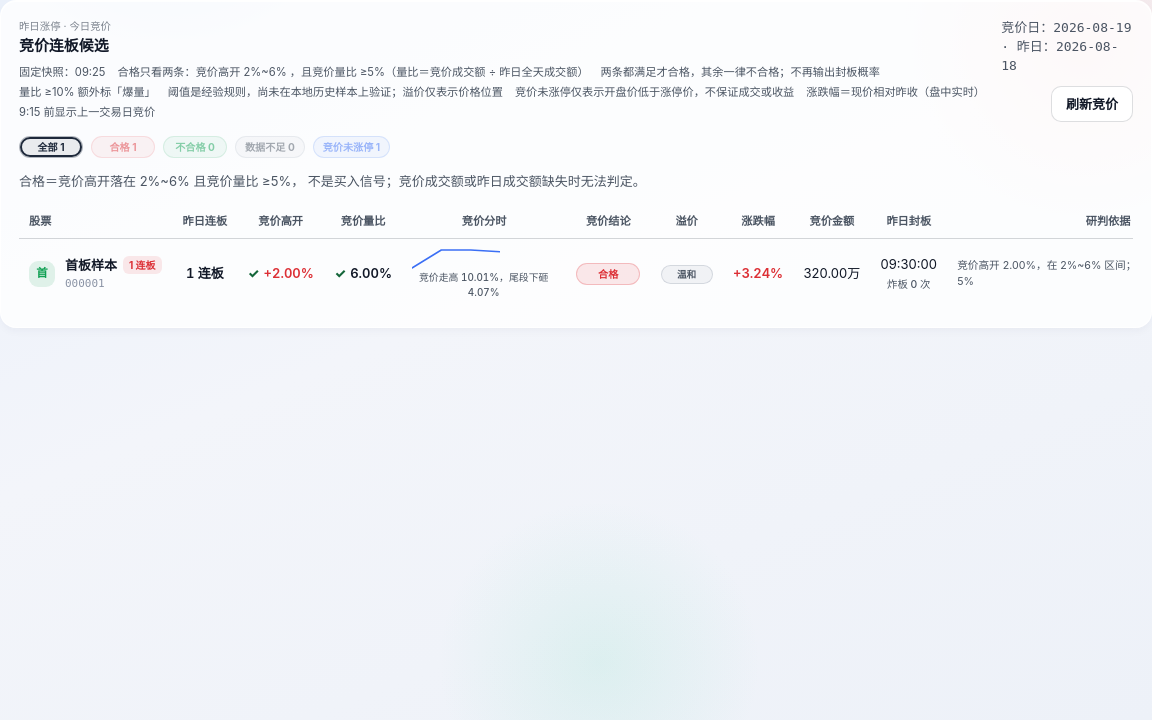
Test: AuctionList › explains an empty result instead of showing a blank table
The width and height of the screenshot is (1164, 720).
Click the button "不合格 0" at (195, 147), box left=163, top=136, right=227, bottom=158
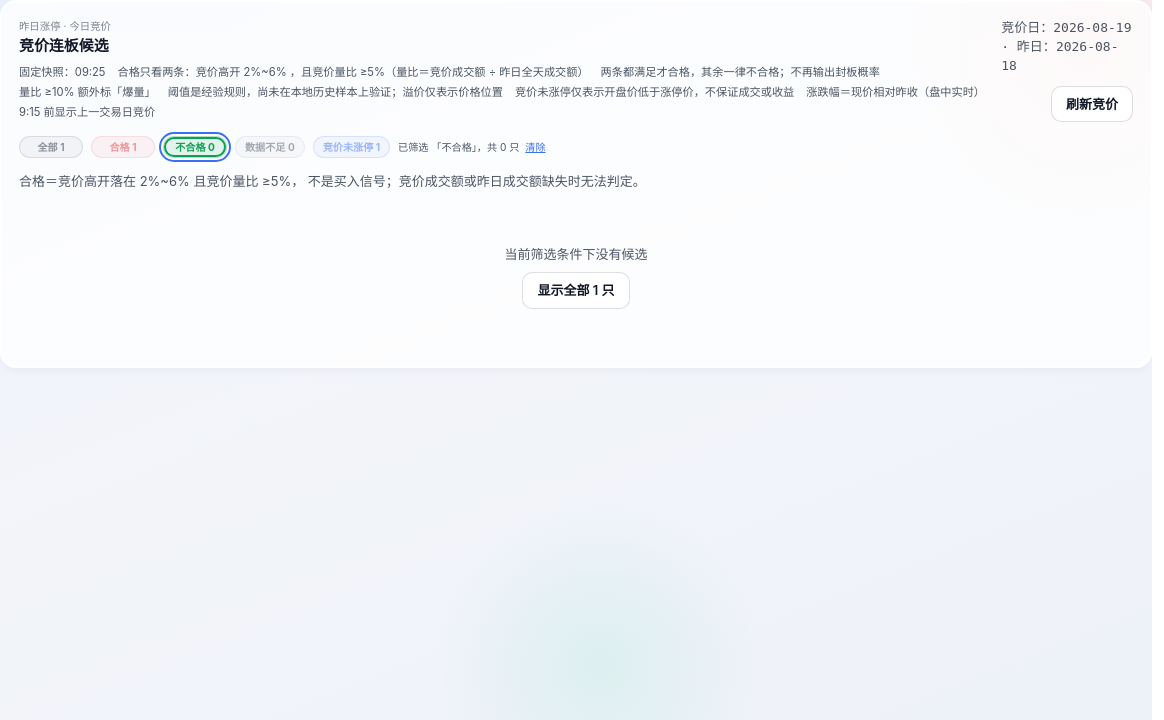
expect the text "当前筛选条件下没有候选" is shown: met, box left=504, top=245, right=648, bottom=264
expect the button "显示全部 1 只" is shown: met, box left=522, top=272, right=630, bottom=309
